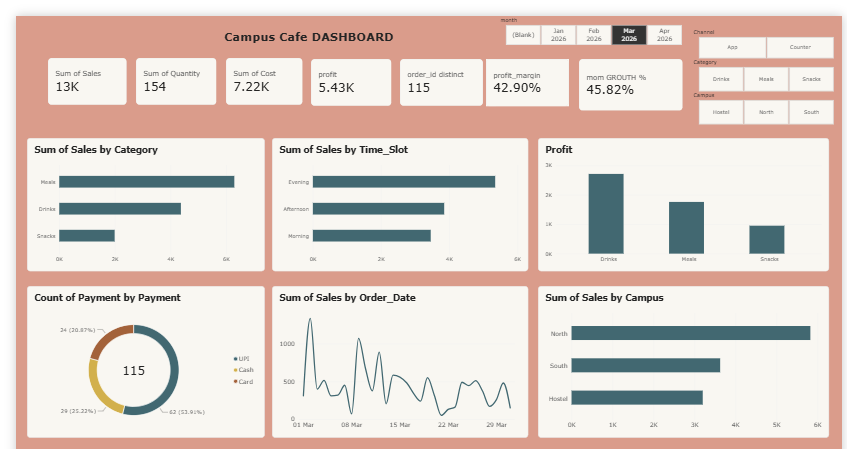

The dashboard page shown, as its layout file describes it:
{"tool":"powerbi","page":{"name":"Dash board","canvas":[1920,1080],"ordinal":1},"visuals":[{"type":"barChart","fields":{"Category":["campus_cafe_project.Time_Slot"],"Y":["Sum(campus_cafe_project.Sales)"]},"box":[636.6,283.7,555.5,300.4],"z":0},{"type":"barChart","fields":{"Category":["campus_cafe_project.Campus"],"Y":["Sum(campus_cafe_project.Sales)"]},"box":[1192.1,693.8,634.2,274.2],"z":1000},{"type":"barChart","fields":{"Category":["campus_cafe_project.Category"],"Y":["Sum(campus_cafe_project.Sales)"]},"box":[0,283.7,600.8,300.4],"z":2000},{"type":"donutChart","fields":{"Category":["campus_cafe_project.Payment"],"Y":["CountNonNull(campus_cafe_project.Payment)"]},"box":[52.5,679.5,429.1,300.4],"z":3000},{"type":"lineChart","fields":{"Category":["campus_cafe_project.Order_Date.Variation.Date Hierarchy.Year","campus_cafe_project.Order_Date.Variation.Date Hierarchy.Month"],"Y":["Sum(campus_cafe_project.Sales)"]},"box":[517.4,693.8,595.9,275.3],"z":4000},{"type":"columnChart","fields":{"Category":["campus_cafe_project.Category"],"Y":["campus_cafe_project.profit"]},"box":[1256.4,283.7,596,309.9],"z":5000},{"type":"cardVisual","fields":{"Data":["Sum(campus_cafe_project.Sales)"]},"box":[52.5,71.5,187.5,115.7],"z":6000},{"type":"cardVisual","fields":{"Data":["Sum(campus_cafe_project.Quantity)"]},"box":[267,73.9,187.5,109.1],"z":7000},{"type":"cardVisual","fields":{"Data":["campus_cafe_project.profit"]},"box":[636.6,73.9,187.5,109.1],"z":8000},{"type":"cardVisual","fields":{"Data":["campus_cafe_project.order_id distinct"]},"box":[855.9,85.8,210.1,109.1],"z":9000},{"type":"slicer","fields":{"Values":["campus_cafe_project.Category"]},"box":[1602.1,112.1,251.4,63.8],"z":10000},{"type":"slicer","fields":{"Values":["campus_cafe_project.Campus"]},"box":[1652.2,183.6,240.7,50.5],"z":11000},{"type":"slicer","fields":{"Values":["campus_cafe_project.Channel"]},"box":[1566.8,30.6,353.8,55.9],"z":12000},{"type":"cardVisual","fields":{"Data":["campus_cafe_project.profit_margin"]},"box":[1082.4,81.1,174,107.3],"z":13000},{"type":"cardVisual","fields":{"Data":["Sum(campus_cafe_project.Cost)"]},"box":[457.7,95.4,141,89.1],"z":14000}]}

Visuals, with their boxes on the page's 1920x1080 design canvas (x1, y1, x2, y2). These are canvas units, not pixel positions in the 847x449 screenshot, which may show the page scaled, cropped or inside an application window:
barChart - campus_cafe_project.Time_Slot x Sum(campus_cafe_project.Sales): <box>637,284,1192,584</box>
barChart - campus_cafe_project.Campus x Sum(campus_cafe_project.Sales): <box>1192,694,1826,968</box>
barChart - campus_cafe_project.Category x Sum(campus_cafe_project.Sales): <box>0,284,601,584</box>
donutChart - campus_cafe_project.Payment x CountNonNull(campus_cafe_project.Payment): <box>52,680,482,980</box>
lineChart - campus_cafe_project.Order_Date.Variation.Date Hierarchy.Year x campus_cafe_project.Order_Date.Variation.Date Hierarchy.Month: <box>517,694,1113,969</box>
columnChart - campus_cafe_project.Category x campus_cafe_project.profit: <box>1256,284,1852,594</box>
cardVisual - Sum(campus_cafe_project.Sales): <box>52,72,240,187</box>
cardVisual - Sum(campus_cafe_project.Quantity): <box>267,74,454,183</box>
cardVisual - campus_cafe_project.profit: <box>637,74,824,183</box>
cardVisual - campus_cafe_project.order_id distinct: <box>856,86,1066,195</box>
slicer - campus_cafe_project.Category: <box>1602,112,1854,176</box>
slicer - campus_cafe_project.Campus: <box>1652,184,1893,234</box>
slicer - campus_cafe_project.Channel: <box>1567,31,1921,86</box>
cardVisual - campus_cafe_project.profit_margin: <box>1082,81,1256,188</box>
cardVisual - Sum(campus_cafe_project.Cost): <box>458,95,599,184</box>
